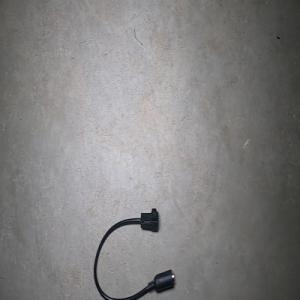Wire: (93, 208, 175, 300)
